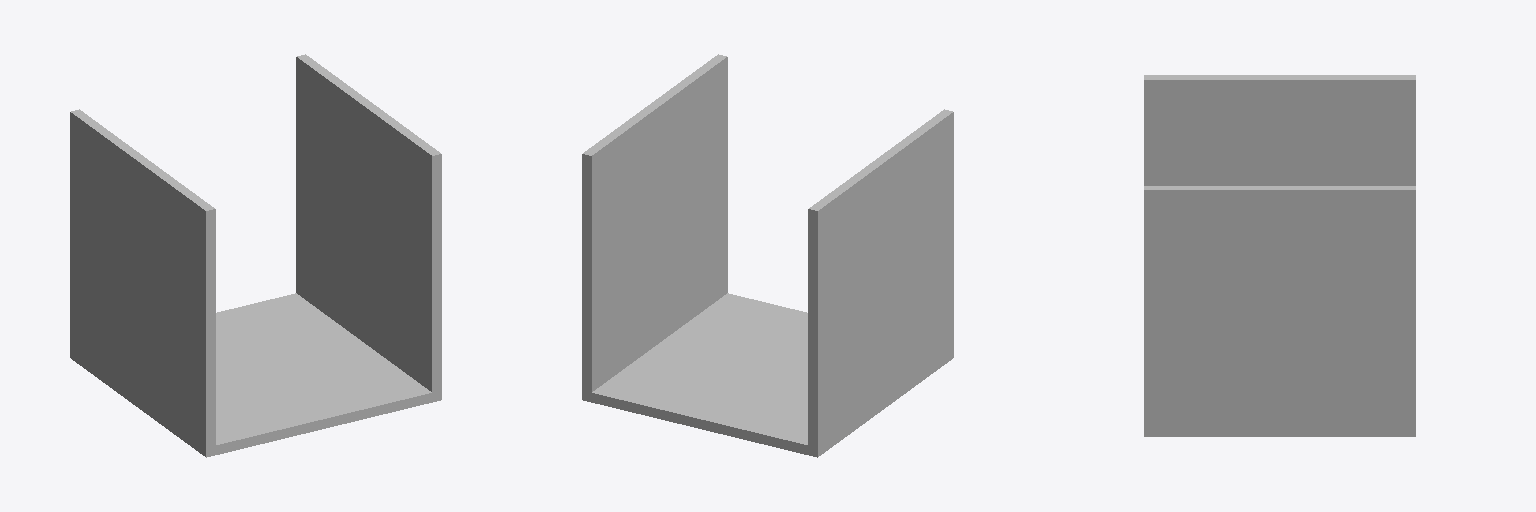
Rendered from coridor_topless.obj.
The picture shows the model from 3 angles: view 1: azimuth 30°, elevation 25°; view 2: azimuth 150°, elevation 25°; view 3: azimuth 270°, elevation 25°; orthographic projection.
Parts seen in each view (by area): view 1: pillar, Wall, floor; view 2: pillar, Wall, floor; view 3: Wall, pillar.
Part boxes in pixels (x1,y1,x2,y2): pillar: (70,109,215,456); Wall: (296,54,441,400); floor: (70,293,441,457); pillar: (808,109,953,455); Wall: (582,54,727,400); floor: (582,293,953,457); Wall: (1144,186,1415,436); pillar: (1144,75,1415,185).
Size of the model in its own units: 5 by 5 by 5.